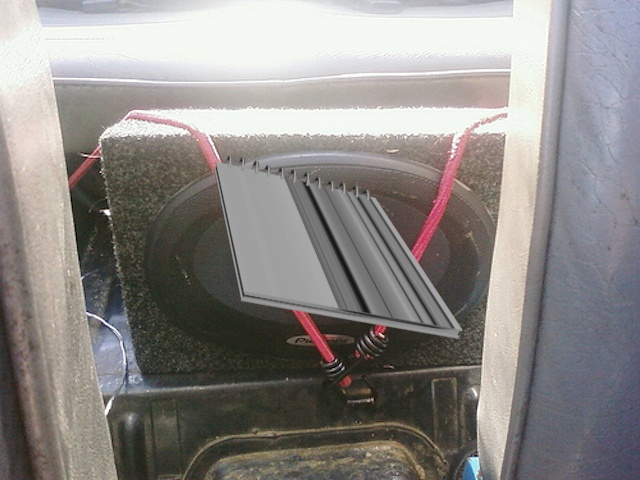paper_notebook: (209, 153, 464, 344)
